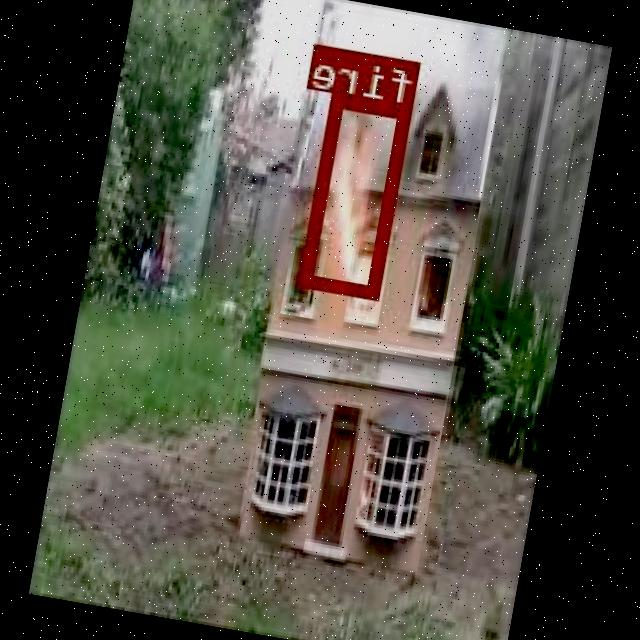fire: (301, 92, 414, 296)
